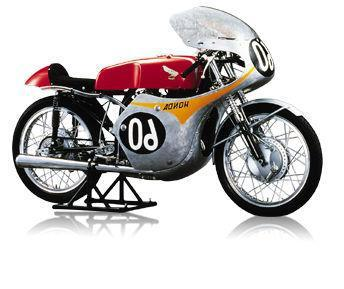motorcycle: (11, 1, 329, 224)
